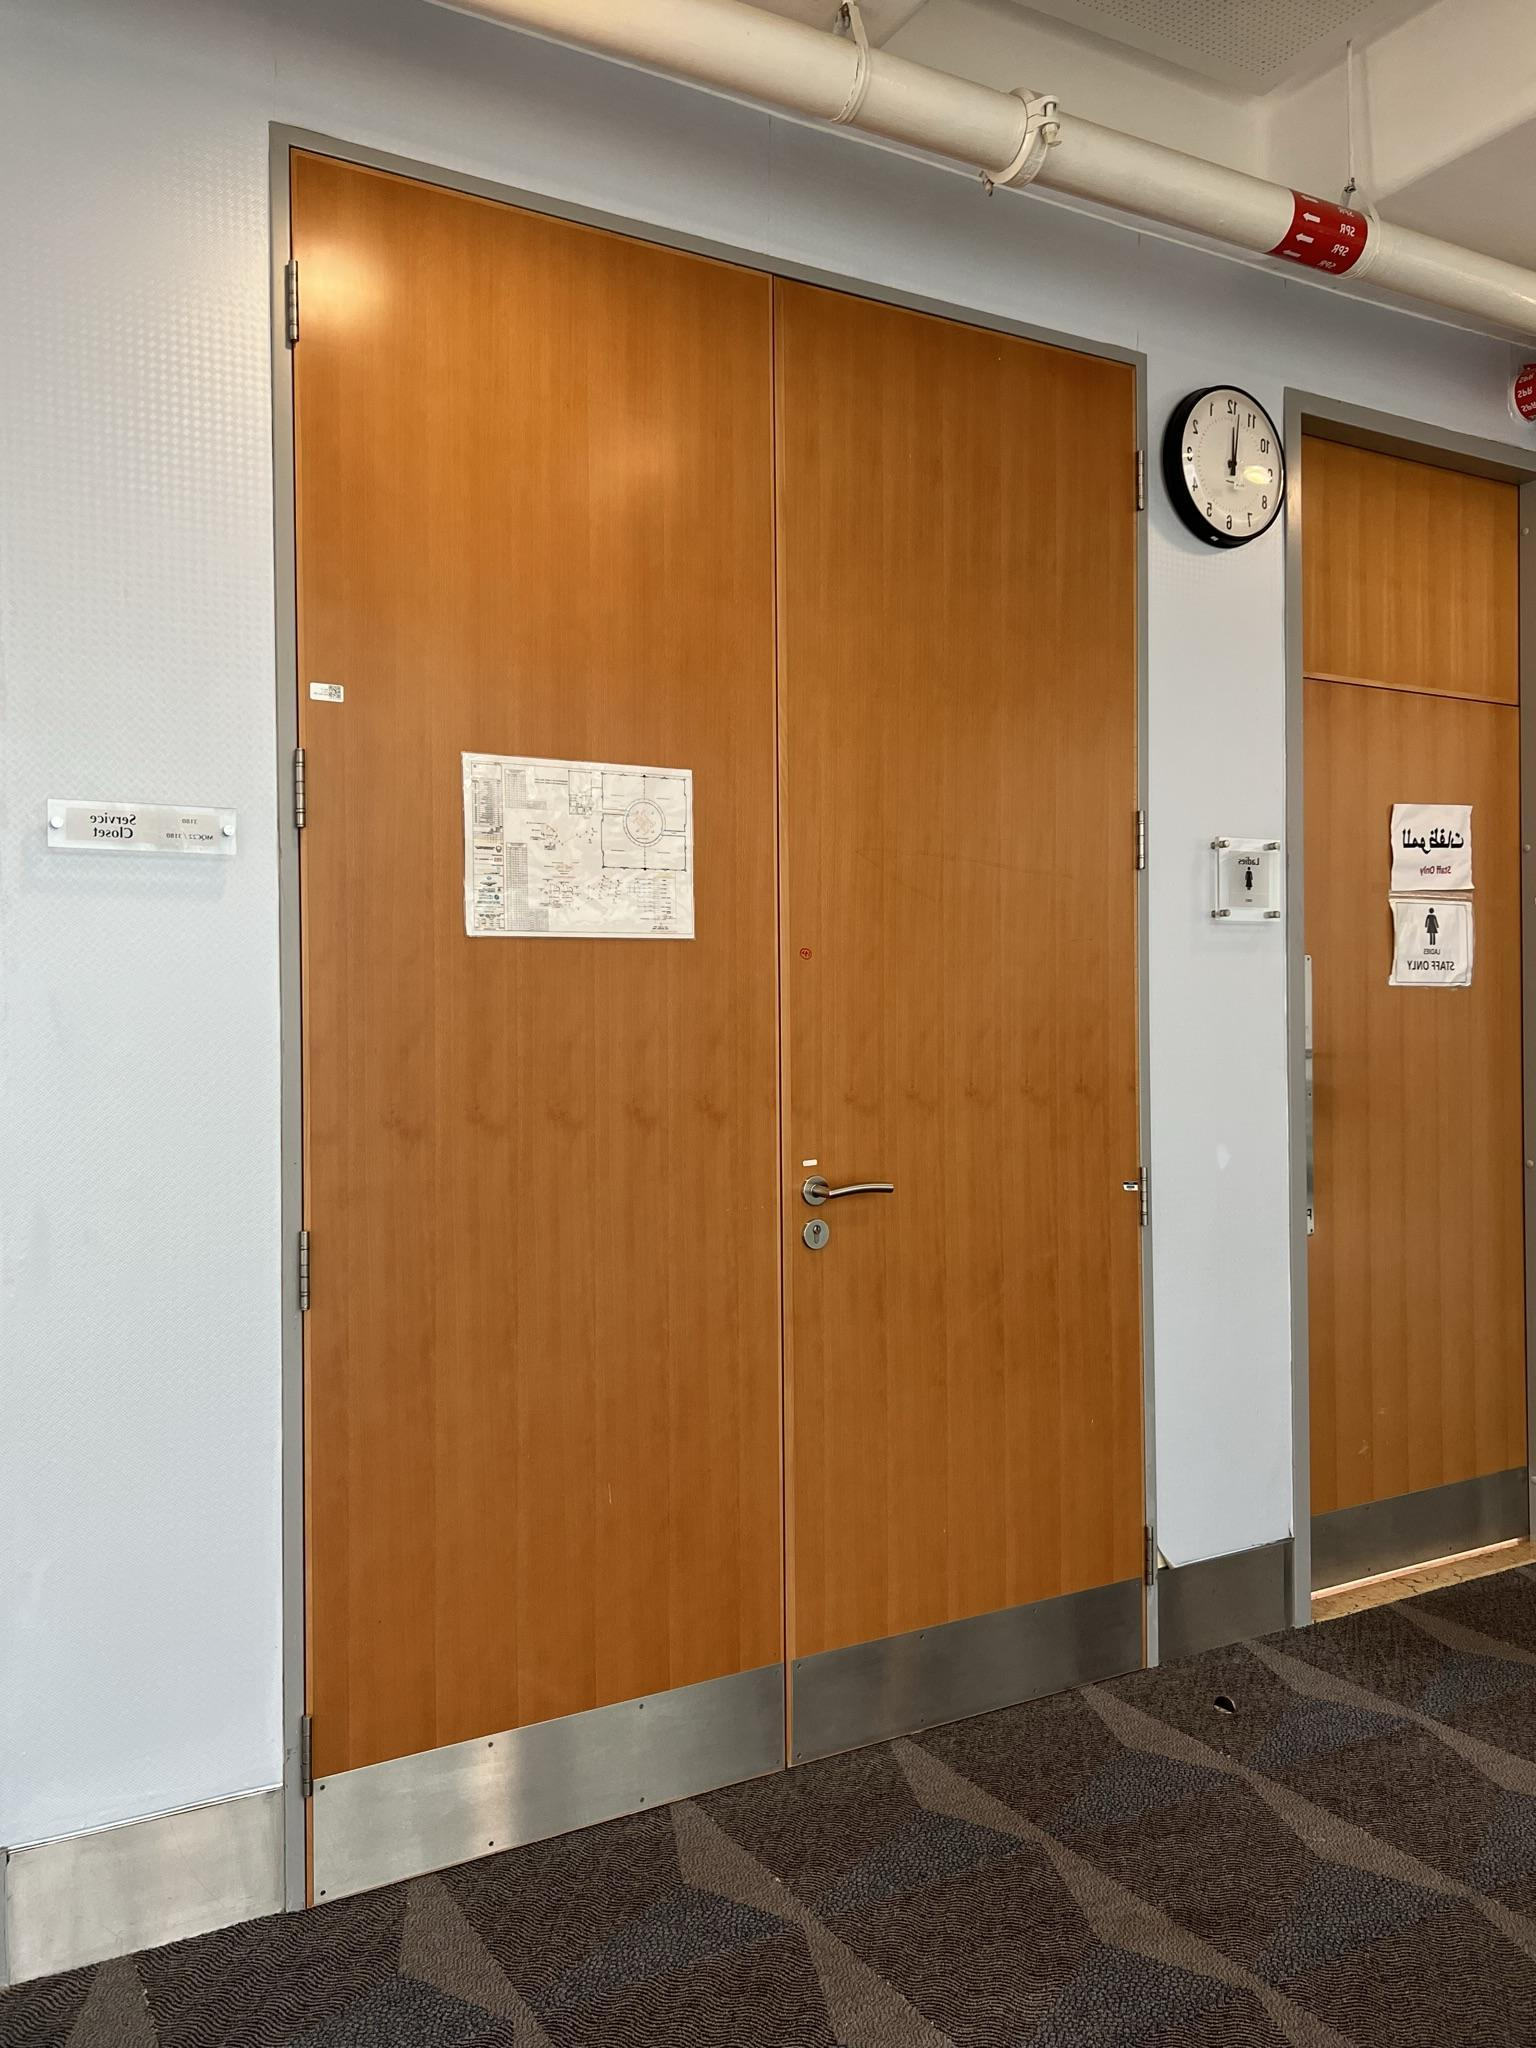door: (271, 261, 753, 1866), (787, 306, 1134, 1738), (1267, 406, 1536, 1638)
handle: (787, 1161, 904, 1263)
